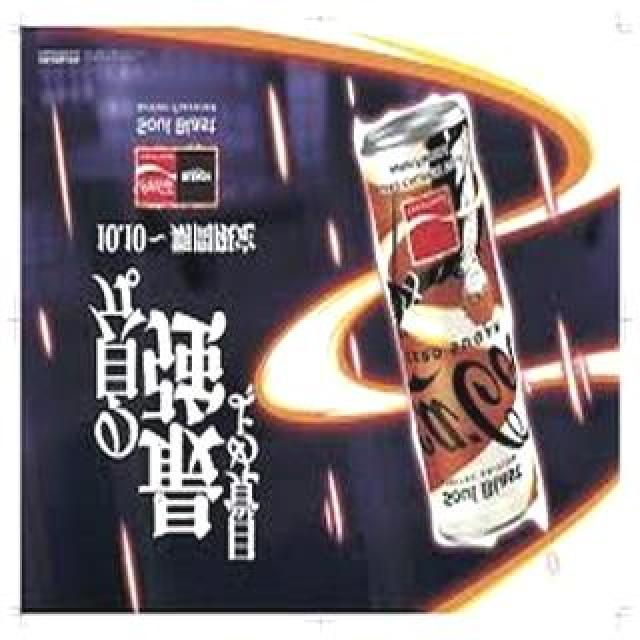Can: (353, 90, 545, 548)
